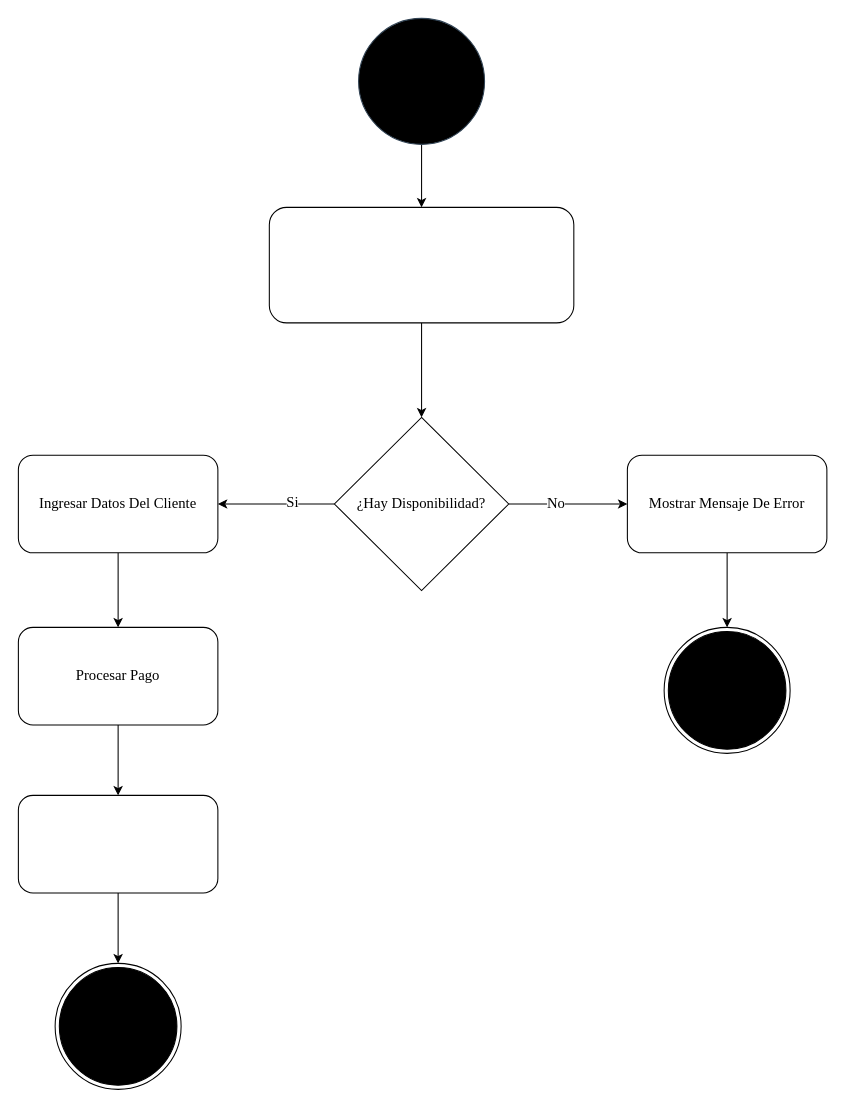
Some shapes in this 845 by 1108 pixel diagram are drawn without their labels. The box of each missing label's shape, as (x1, y1, x2, y2) in pixels:
Generar Ticket De Reserva: (17, 794, 218, 893)
Ingresar Fechas De Estadía: (268, 206, 574, 323)
